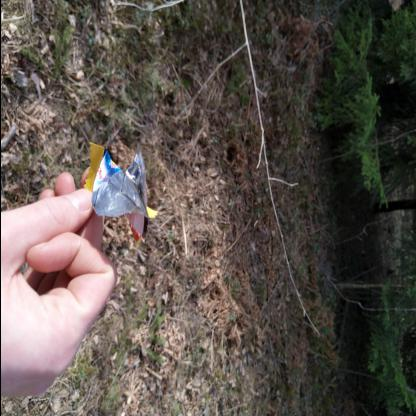plastik: (81, 141, 159, 247)
